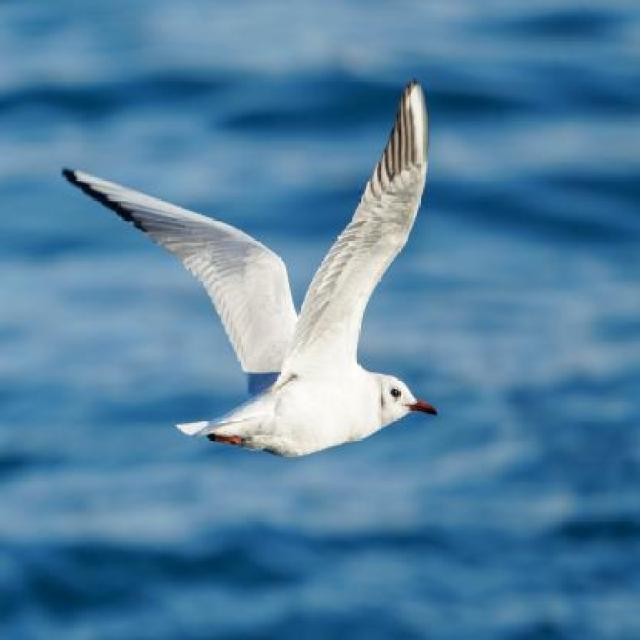bird: (65, 80, 438, 454)
